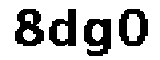0: (116, 1, 153, 53)
8: (6, 4, 46, 52)
d: (48, 5, 82, 54)
g: (83, 14, 114, 60)
